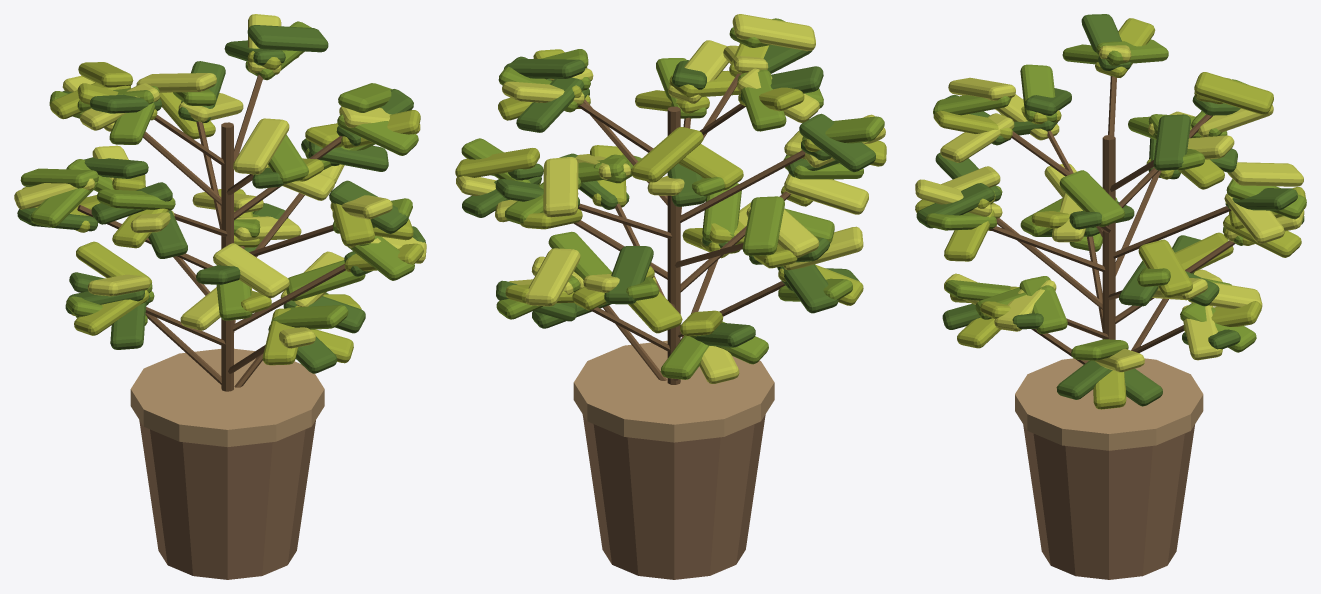
File: plant_small_round.glb
The picture shows the model from 3 angles, left to right: view 1: azimuth 30°, elevation 25°; view 2: azimuth 150°, elevation 25°; view 3: azimuth 270°, elevation 25°; orthographic projection. The views are drawn at different scales.
Parts seen in each view (by area): view 1: plant_small_round__terracotta, plant_small_round__leaf_tip, plant_small_round__leaf, plant_small_round__leaf_mid, plant_small_round__leaf_light, plant_small_round__pot_rim, plant_small_round__bark; view 2: plant_small_round__terracotta, plant_small_round__leaf_tip, plant_small_round__leaf_mid, plant_small_round__leaf, plant_small_round__leaf_light, plant_small_round__pot_rim, plant_small_round__bark; view 3: plant_small_round__terracotta, plant_small_round__leaf_tip, plant_small_round__leaf_mid, plant_small_round__leaf_light, plant_small_round__leaf, plant_small_round__pot_rim, plant_small_round__bark.
Part boxes in pixels (bbox=[...]): plant_small_round__terracotta: bbox=[139, 420, 315, 579]; plant_small_round__leaf_tip: bbox=[14, 14, 426, 348]; plant_small_round__leaf: bbox=[17, 25, 425, 373]; plant_small_round__leaf_mid: bbox=[20, 21, 418, 329]; plant_small_round__leaf_light: bbox=[22, 51, 423, 365]; plant_small_round__pot_rim: bbox=[130, 348, 324, 447]; plant_small_round__bark: bbox=[77, 74, 345, 391]; plant_small_round__terracotta: bbox=[582, 414, 765, 579]; plant_small_round__leaf_tip: bbox=[456, 14, 885, 383]; plant_small_round__leaf_mid: bbox=[461, 18, 884, 379]; plant_small_round__leaf: bbox=[462, 45, 875, 347]; plant_small_round__leaf_light: bbox=[455, 43, 886, 336]; plant_small_round__pot_rim: bbox=[573, 340, 774, 442]; plant_small_round__bark: bbox=[573, 73, 805, 384]; plant_small_round__terracotta: bbox=[1023, 424, 1194, 579]; plant_small_round__leaf_tip: bbox=[915, 45, 1304, 372]; plant_small_round__leaf_mid: bbox=[925, 39, 1306, 360]; plant_small_round__leaf_light: bbox=[915, 18, 1306, 409]; plant_small_round__leaf: bbox=[916, 14, 1304, 406]; plant_small_round__pot_rim: bbox=[1015, 358, 1203, 450]; plant_small_round__bark: bbox=[989, 76, 1235, 364].
Bounding box in the file's own units: 0.1719 × 0.2287 × 0.1705.
